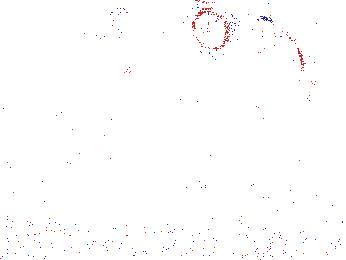moon jellyfish: (231, 41, 318, 123), (110, 8, 162, 91), (178, 2, 235, 54), (138, 32, 204, 76)
